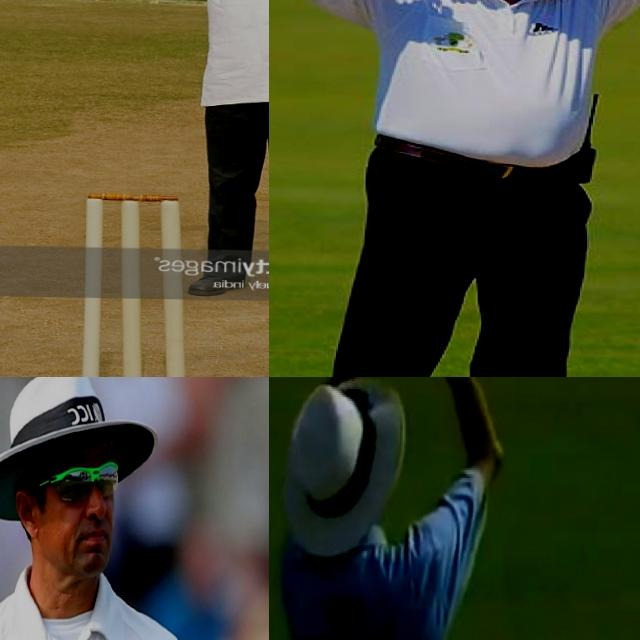No_Action: (0, 377, 254, 640)
Six: (269, 0, 640, 377), (269, 377, 525, 640), (102, 0, 269, 303)
